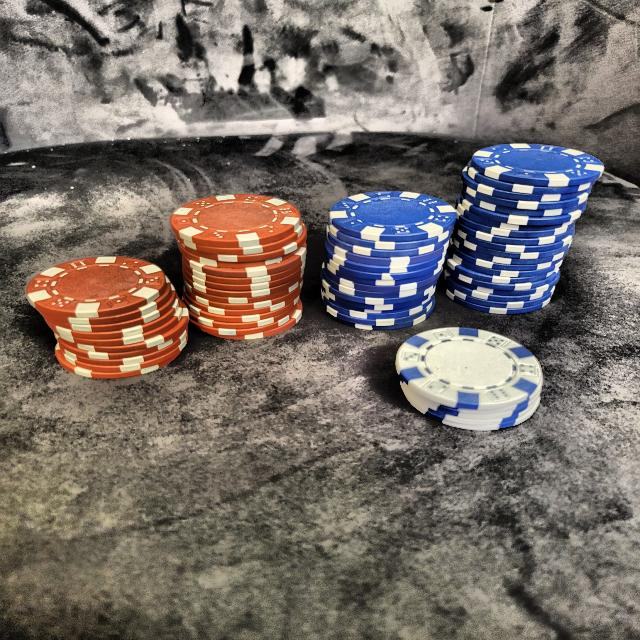Chip: (444, 129, 601, 328), (167, 168, 305, 356), (33, 234, 189, 388), (323, 176, 456, 344), (390, 316, 553, 441)
